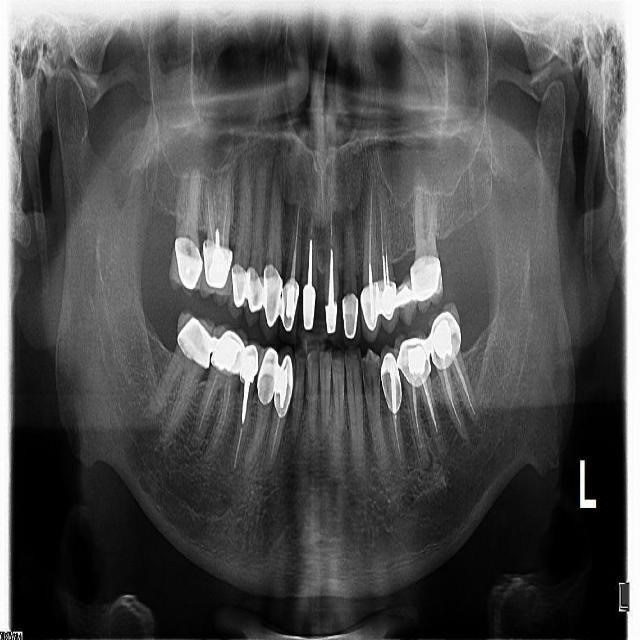Crown: (197, 240, 233, 304), (177, 308, 215, 368), (427, 303, 461, 367), (395, 331, 431, 385), (169, 236, 202, 294), (210, 327, 247, 378), (411, 255, 443, 312), (260, 264, 283, 342), (380, 345, 403, 414), (274, 347, 295, 416), (279, 276, 299, 342), (243, 265, 263, 325), (229, 259, 249, 317), (361, 284, 380, 342), (258, 348, 277, 405), (396, 273, 416, 324), (342, 290, 360, 346), (379, 281, 397, 334), (240, 341, 262, 384), (302, 288, 316, 332), (324, 303, 337, 332)
Filling: (215, 332, 241, 372), (433, 319, 453, 359), (408, 347, 427, 374), (279, 367, 288, 407)
Periapical lesion: (418, 441, 435, 476), (185, 439, 202, 453)
Root Canal Treatment: (208, 382, 233, 457), (194, 374, 221, 440), (452, 346, 475, 414), (439, 356, 460, 425), (420, 370, 438, 433), (290, 203, 301, 277), (410, 372, 421, 443), (271, 410, 281, 459), (392, 410, 401, 460), (368, 182, 373, 265), (208, 190, 215, 249), (235, 427, 243, 467), (222, 192, 227, 245), (330, 214, 335, 250), (381, 203, 384, 254), (310, 210, 314, 242)
